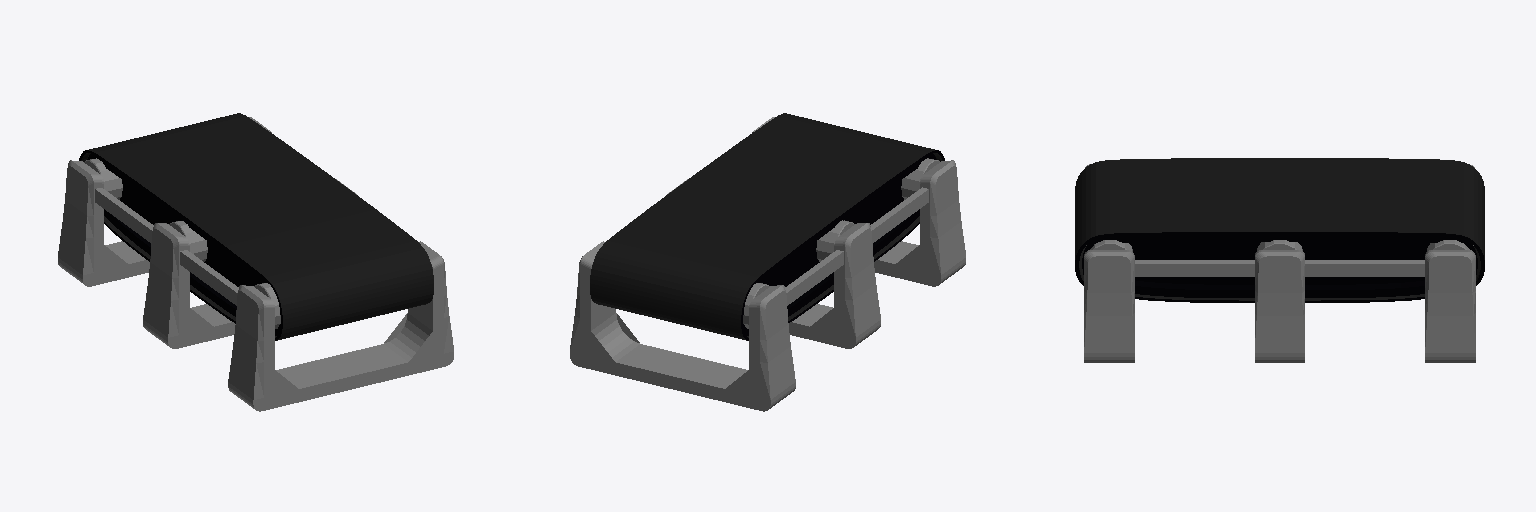
The model's file is conveyor5.obj.
3 views of the same model, side by side, from view 1: azimuth 30°, elevation 25°; view 2: azimuth 150°, elevation 25°; view 3: azimuth 270°, elevation 25° (orthographic).
Visible parts, largest first — view 1: belt.001, legs.001, sides.001, bars.001, motors.001; view 2: belt.001, legs.001, sides.001, bars.001, motors.001; view 3: belt.001, legs.001, sides.001, bars.001, motors.001.
Boxes of the visible parts, box(x1,y1,x2,y2) form: belt.001: box(79, 113, 433, 340); legs.001: box(58, 117, 453, 411); sides.001: box(87, 154, 280, 335); bars.001: box(95, 188, 238, 305); motors.001: box(84, 158, 280, 328); belt.001: box(590, 113, 944, 340); legs.001: box(570, 117, 965, 411); sides.001: box(743, 154, 936, 335); bars.001: box(785, 187, 928, 305); motors.001: box(743, 158, 939, 328); belt.001: box(1075, 158, 1484, 302); legs.001: box(1084, 164, 1475, 362); sides.001: box(1082, 234, 1477, 297); bars.001: box(1135, 260, 1424, 276); motors.001: box(1086, 240, 1473, 251).
Bounding box in the file's own units: 5.63 × 3.28 × 9.95.